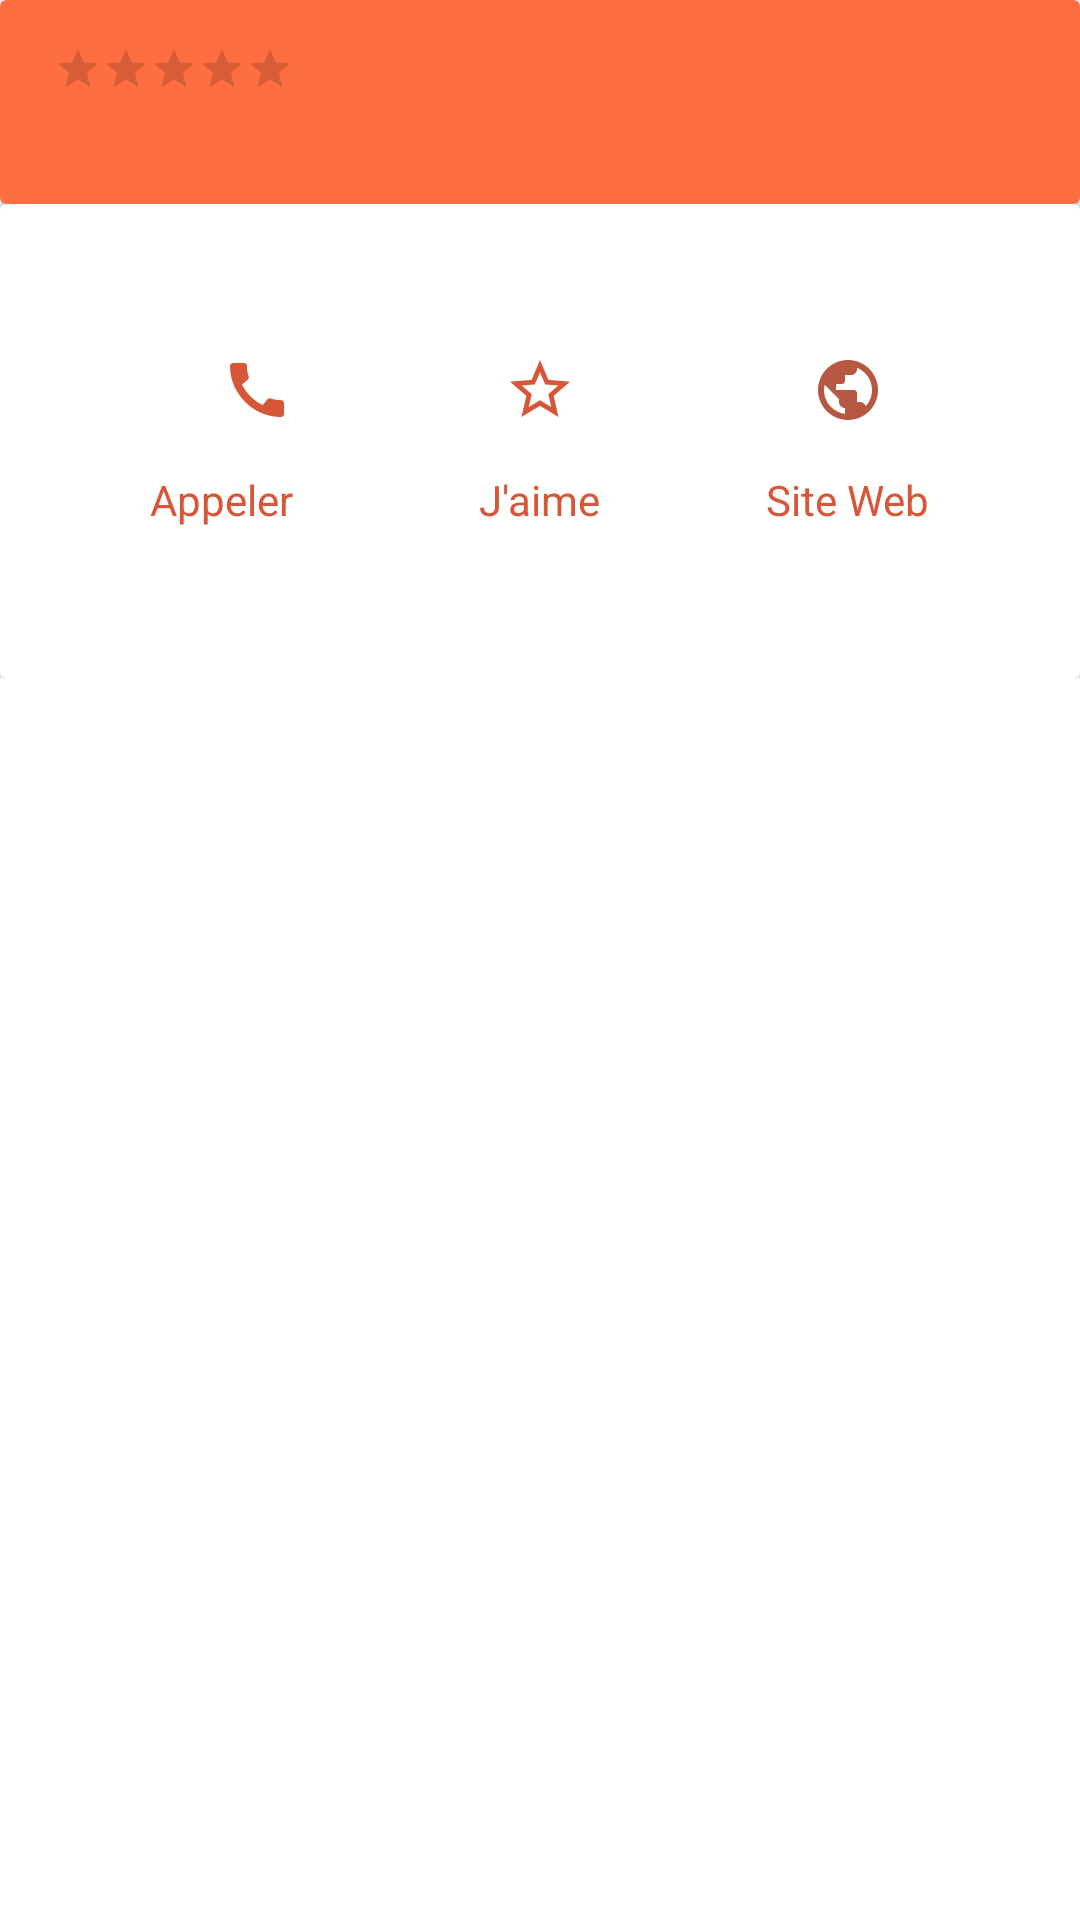

Icon click points for this 1080px x 1920px phone screenshot, format point (x, y):
call: point (257, 390)
star border: point (540, 388)
